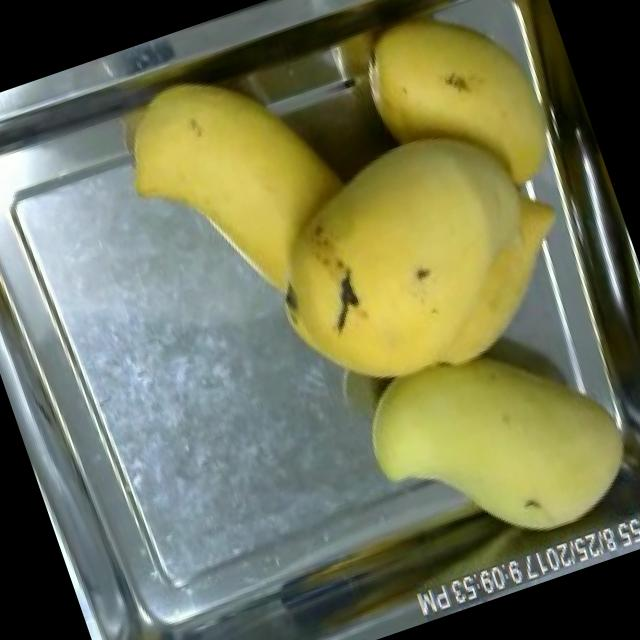fruit: (238, 88, 608, 430), (95, 27, 388, 347), (339, 301, 640, 589), (335, 0, 576, 232)
